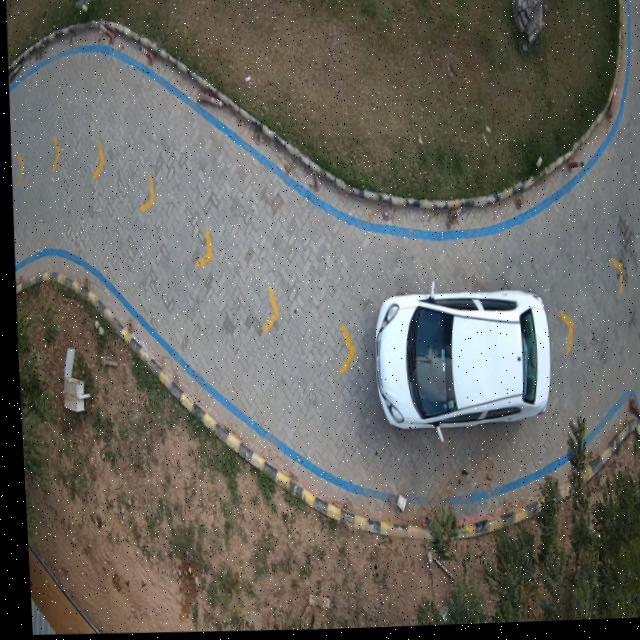car: (369, 293, 548, 436)
